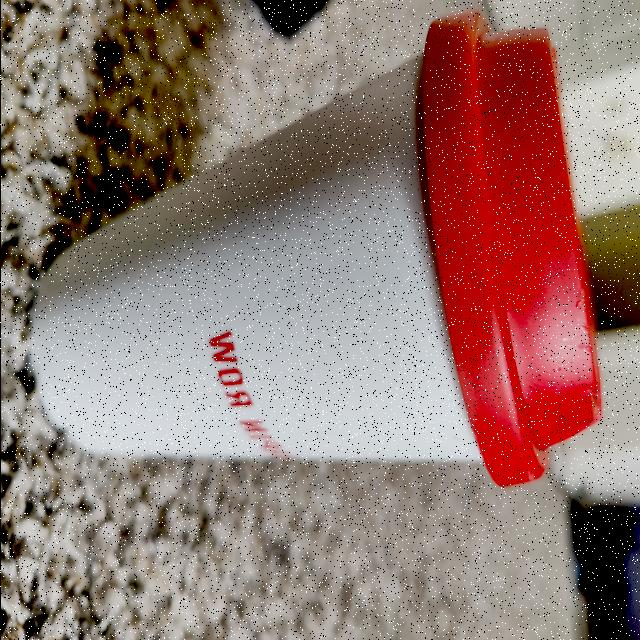mug: (28, 9, 610, 485)
